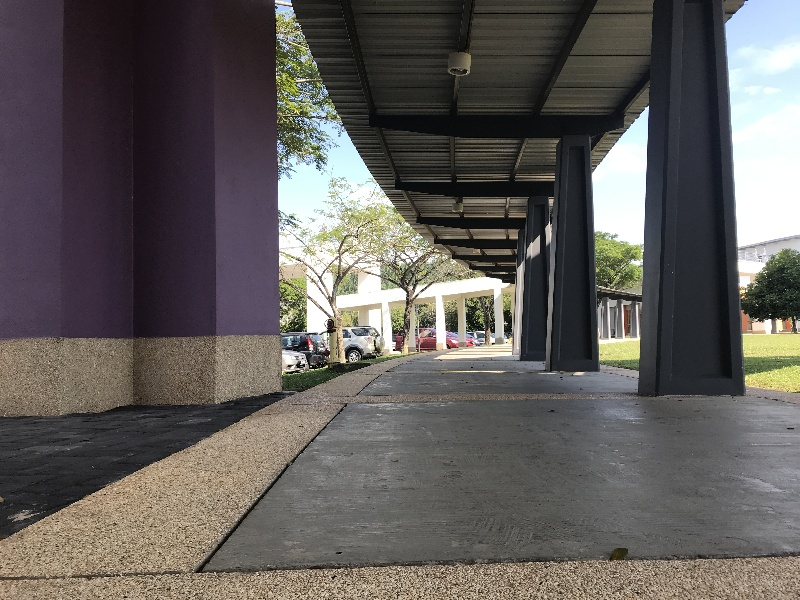pillar: (1, 11, 287, 426), (641, 3, 746, 414), (546, 139, 605, 373), (524, 194, 544, 360)
